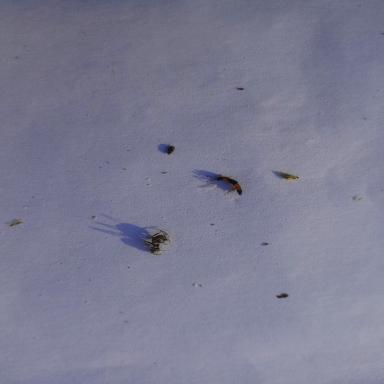pbw: (275, 170, 303, 182)
